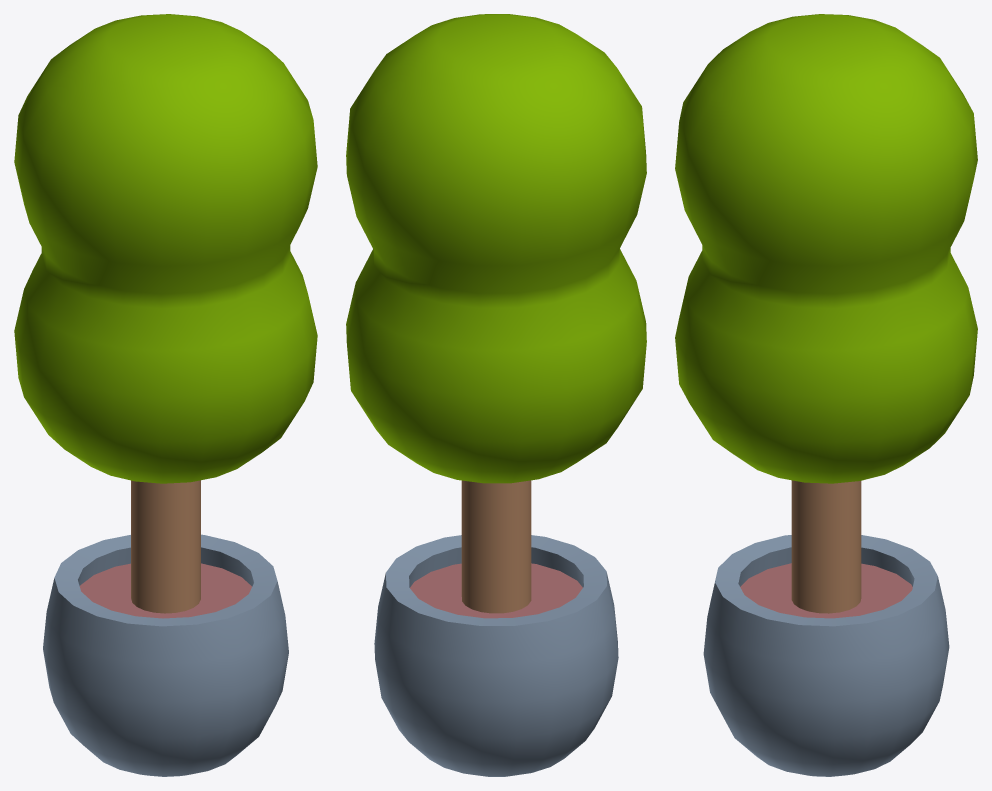
File: Decoration Plant 2.glb
3 renders of one model, left to right at view 1: azimuth 30°, elevation 25°; view 2: azimuth 150°, elevation 25°; view 3: azimuth 270°, elevation 25°, orthographic.
Visible parts, largest first — view 1: Decoration_Plant2; view 2: Decoration_Plant2; view 3: Decoration_Plant2.
Boxes of the visible parts, left/top/right/bottom form: Decoration_Plant2: left=14, top=14, right=317, bottom=776; Decoration_Plant2: left=346, top=14, right=646, bottom=776; Decoration_Plant2: left=675, top=14, right=977, bottom=776.
Bounding box in the file's own units: 0.6965 × 1.82 × 0.6965.
Materials: 1 (1 with a texture image).
